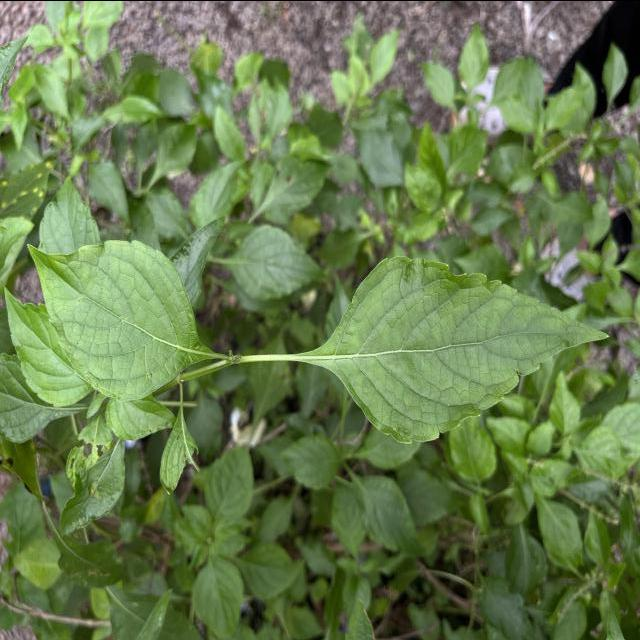Ocimum gratissimum: (276, 253, 612, 446), (22, 235, 222, 406), (0, 282, 96, 408)
